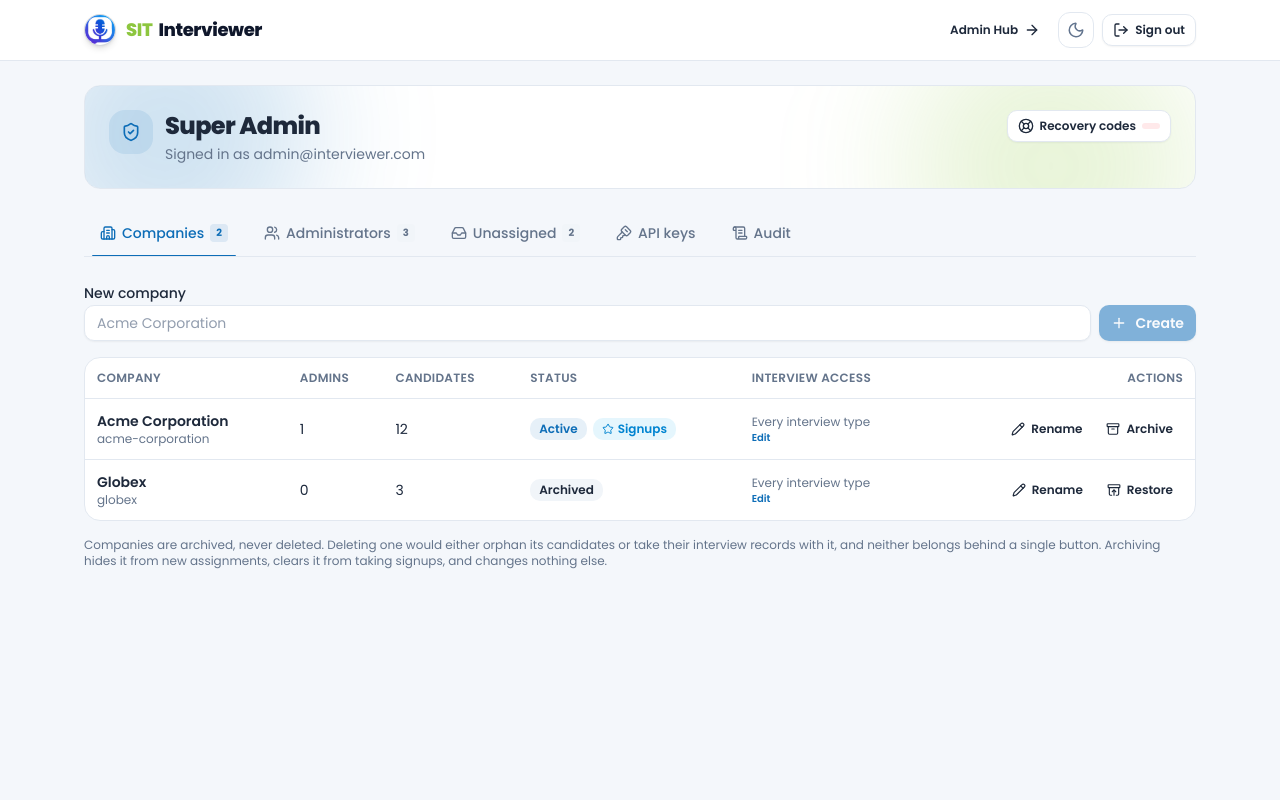
Test: actions › confirms before ending another admin's sessions
Expected: the text "Acme Corporation" is shown, x1=97 y1=410 x2=228 y2=430
Click the button "Administrators 3" at (339, 234), box x1=248 y1=213 x2=431 y2=256
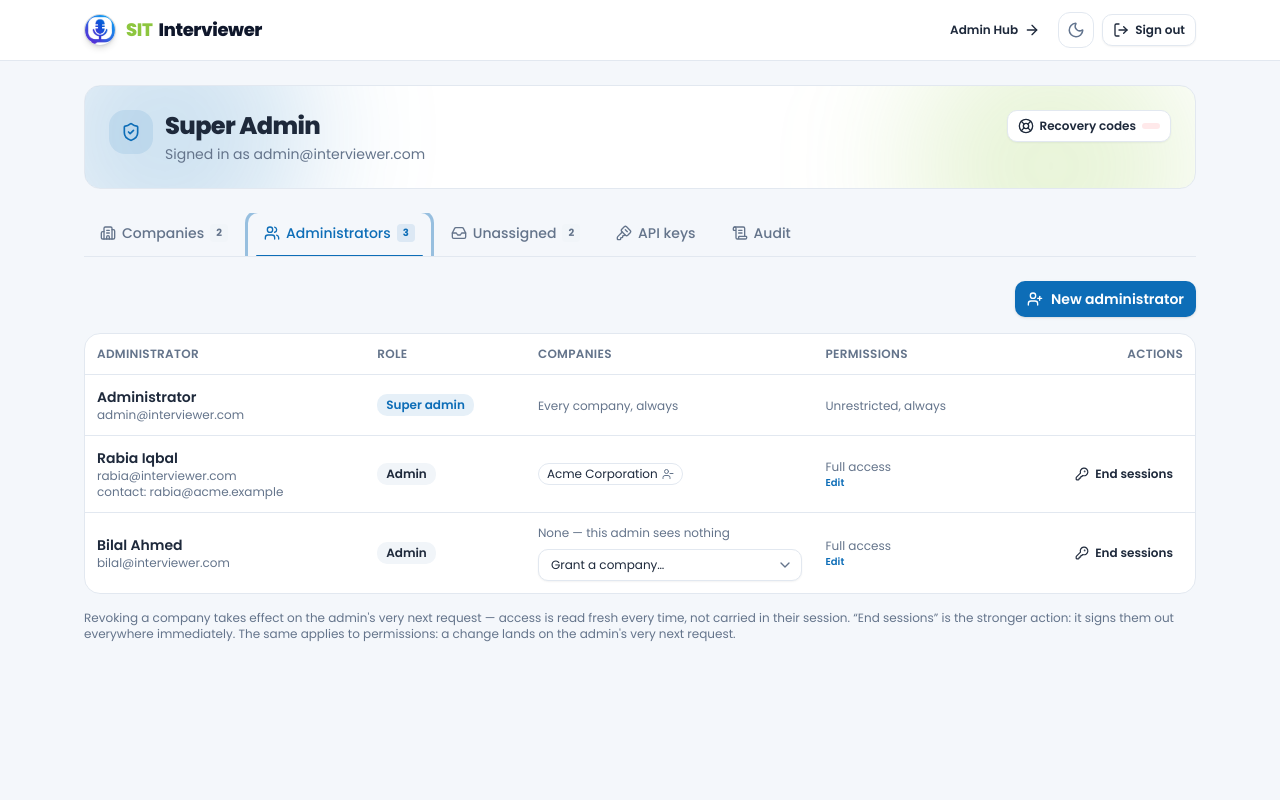
Click the button "End sessions" in the row of "Rabia Iqbal" at (1124, 474), box x1=1065 y1=458 x2=1183 y2=490
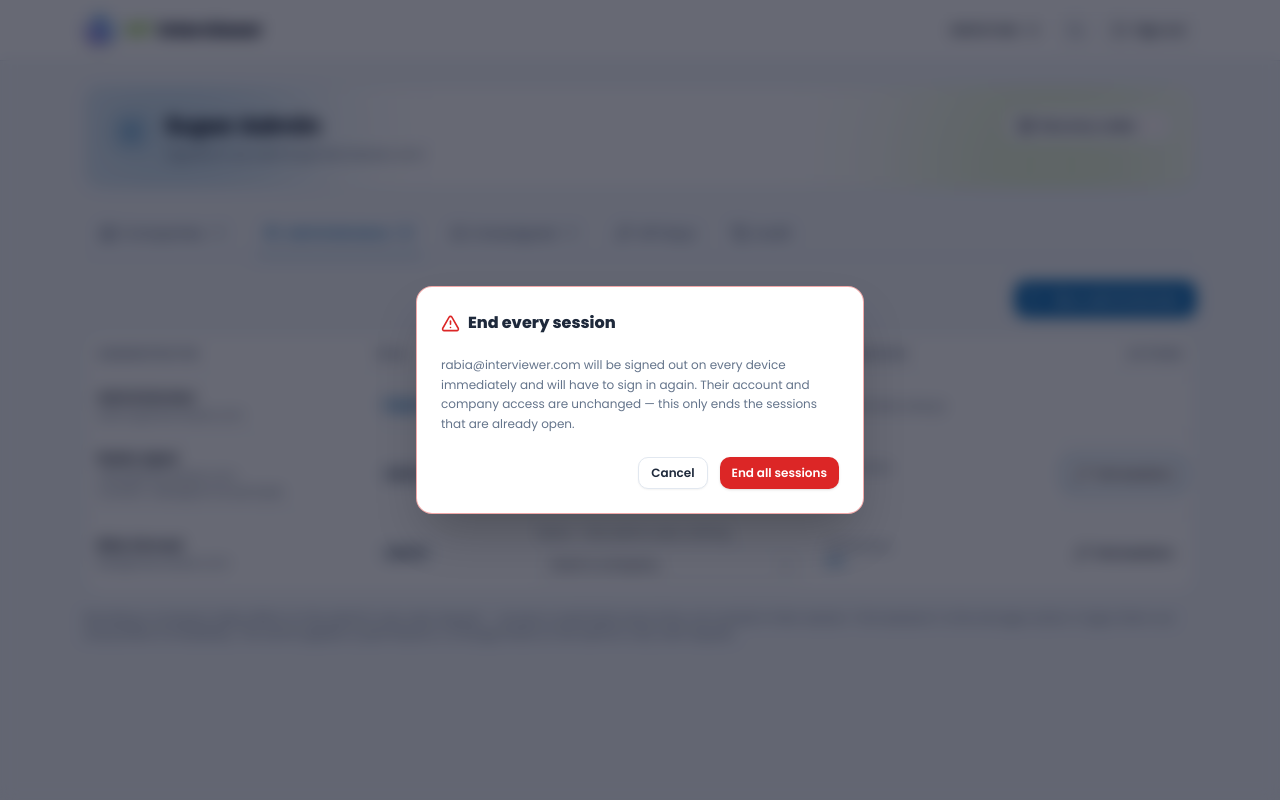
Expected: the text "signed out on every device immediately" is shown, x1=441 y1=356 x2=817 y2=432
